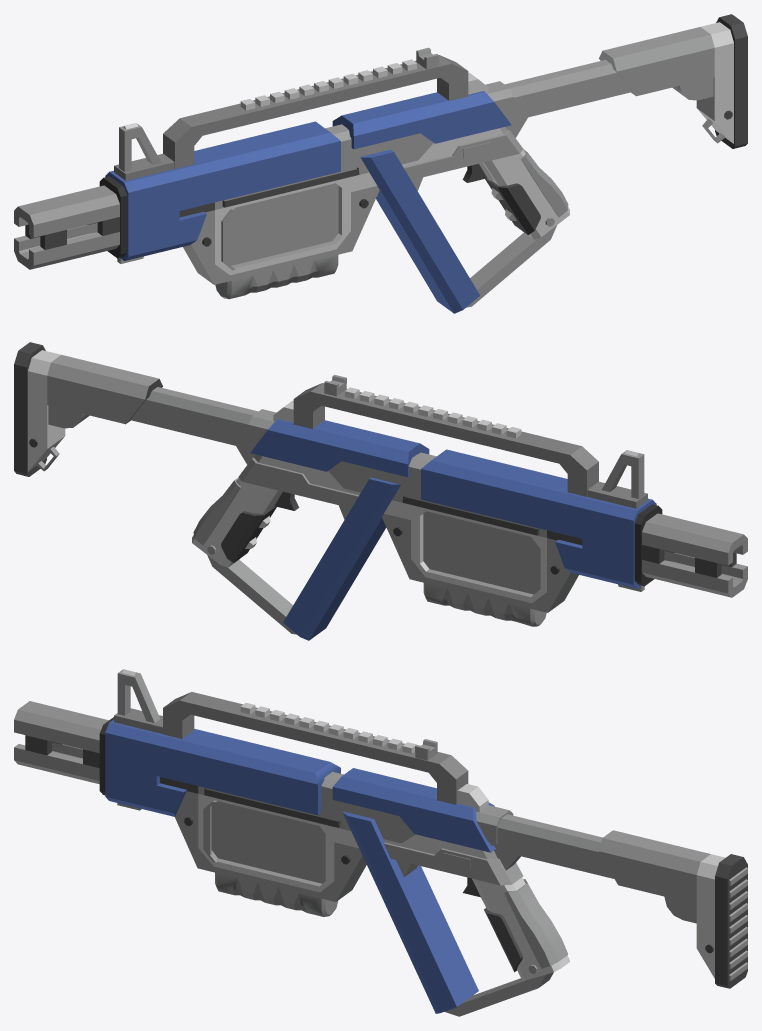
The model's file is Gun05.fbx.
The picture shows the model from 3 angles, top to bottom: view 1: azimuth 30°, elevation 25°; view 2: azimuth 150°, elevation 25°; view 3: azimuth 330°, elevation 25°; orthographic projection.
Parts seen in each view (by area): view 1: Gun05; view 2: Gun05; view 3: Gun05.
Boxes of the visible parts, x1,y1,x2,y2 form: Gun05: [14, 14, 747, 313]; Gun05: [14, 342, 747, 640]; Gun05: [14, 669, 747, 1016].
Size of the model in its own units: 52.56 by 18.25 by 2.95.
Materials: 1 (1 with a texture image).
